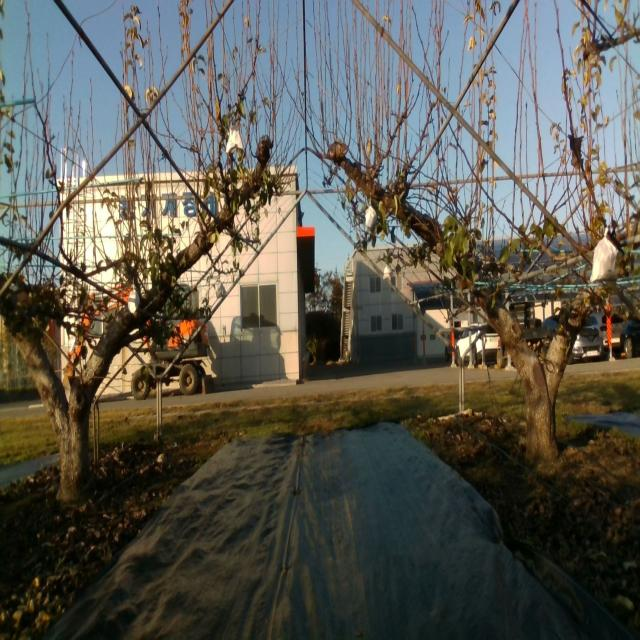pearbags: (589, 228, 616, 282), (224, 124, 242, 154), (128, 284, 140, 314), (365, 206, 376, 230), (215, 277, 226, 298)
